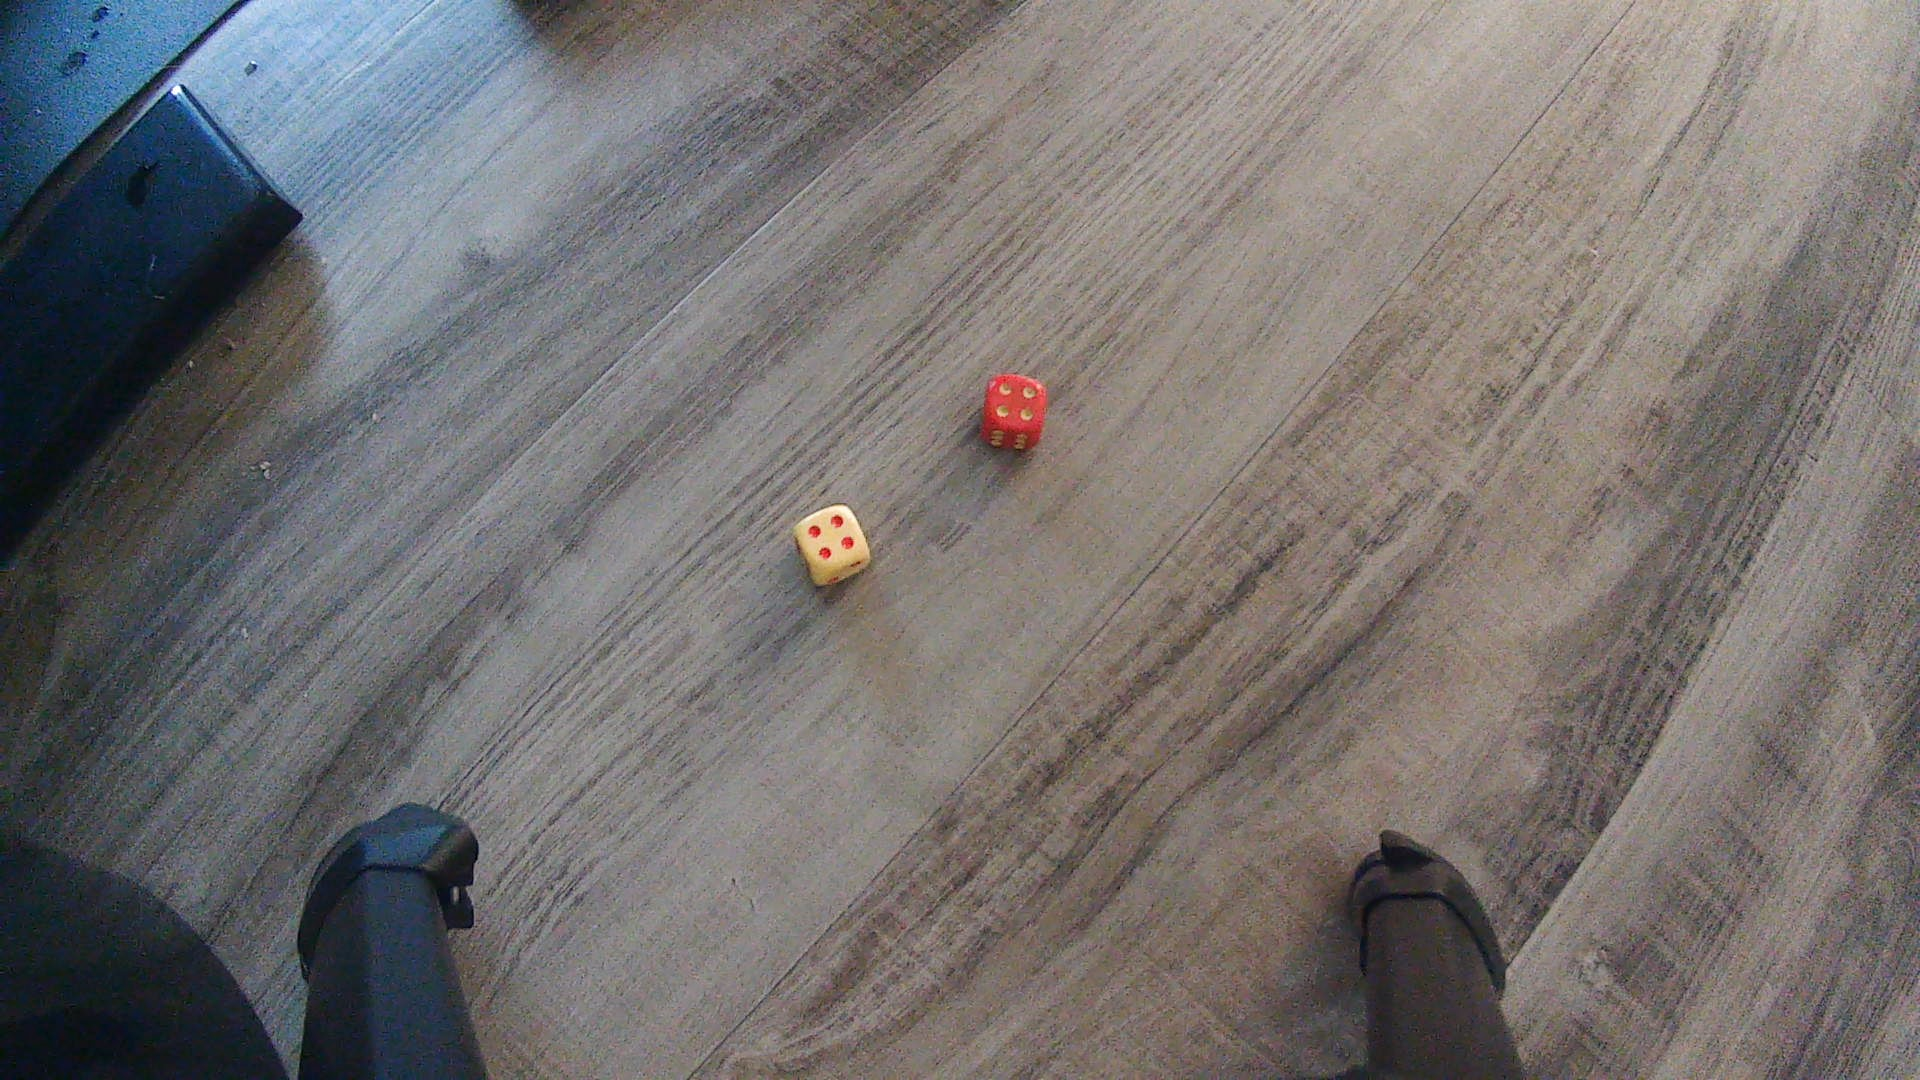die: (791, 502, 873, 588), (978, 373, 1048, 454)
